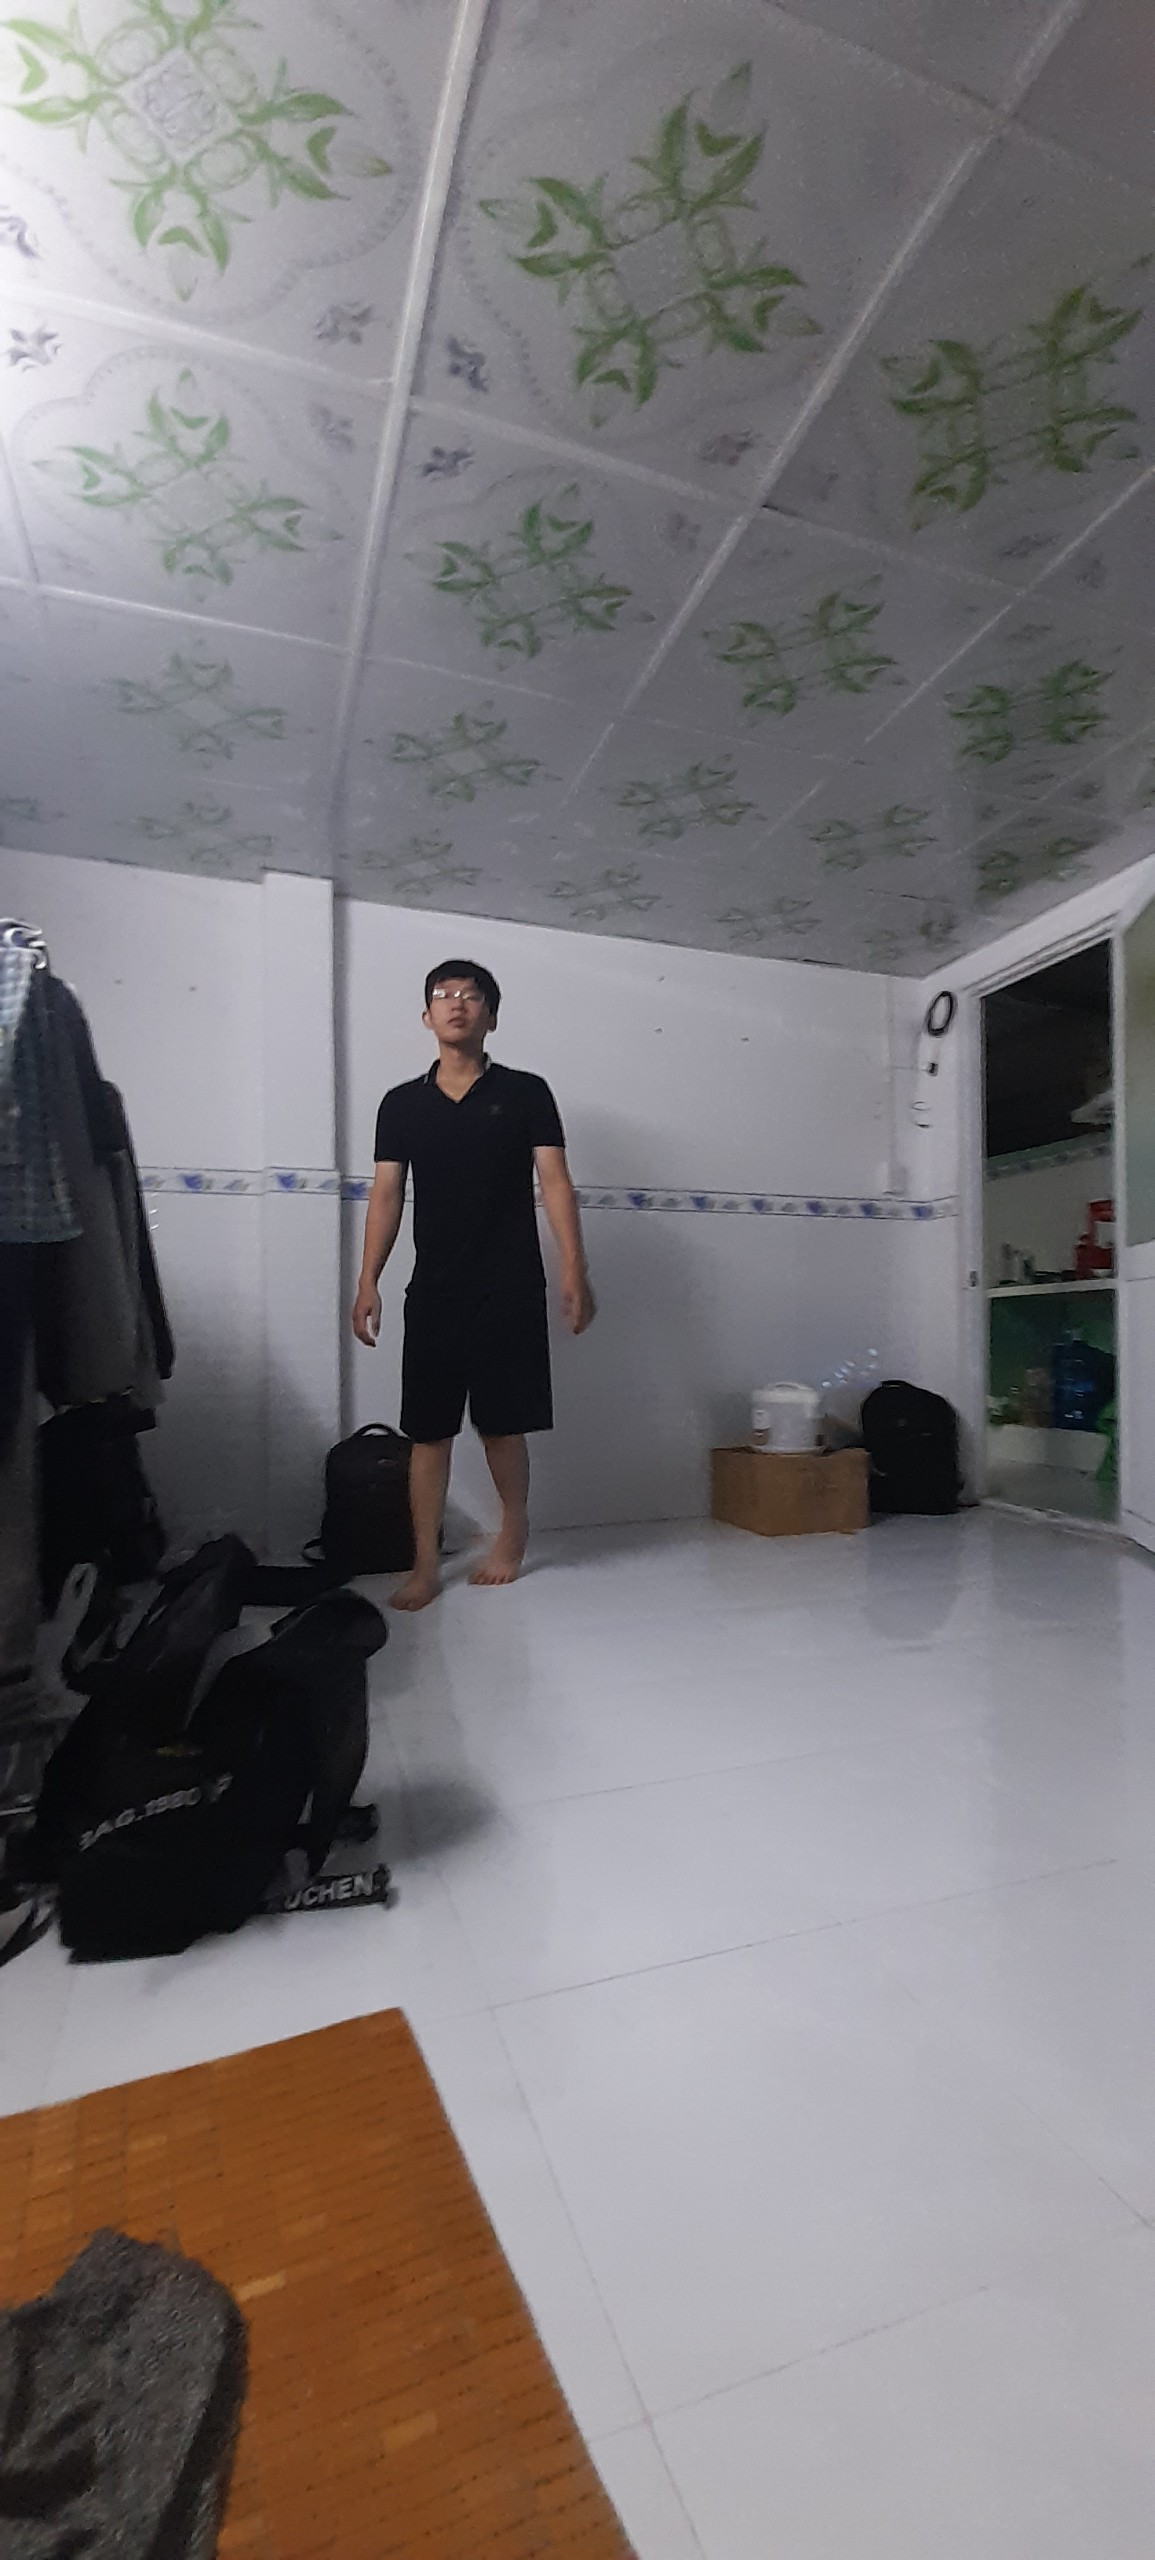person: (381, 960, 557, 1612)
